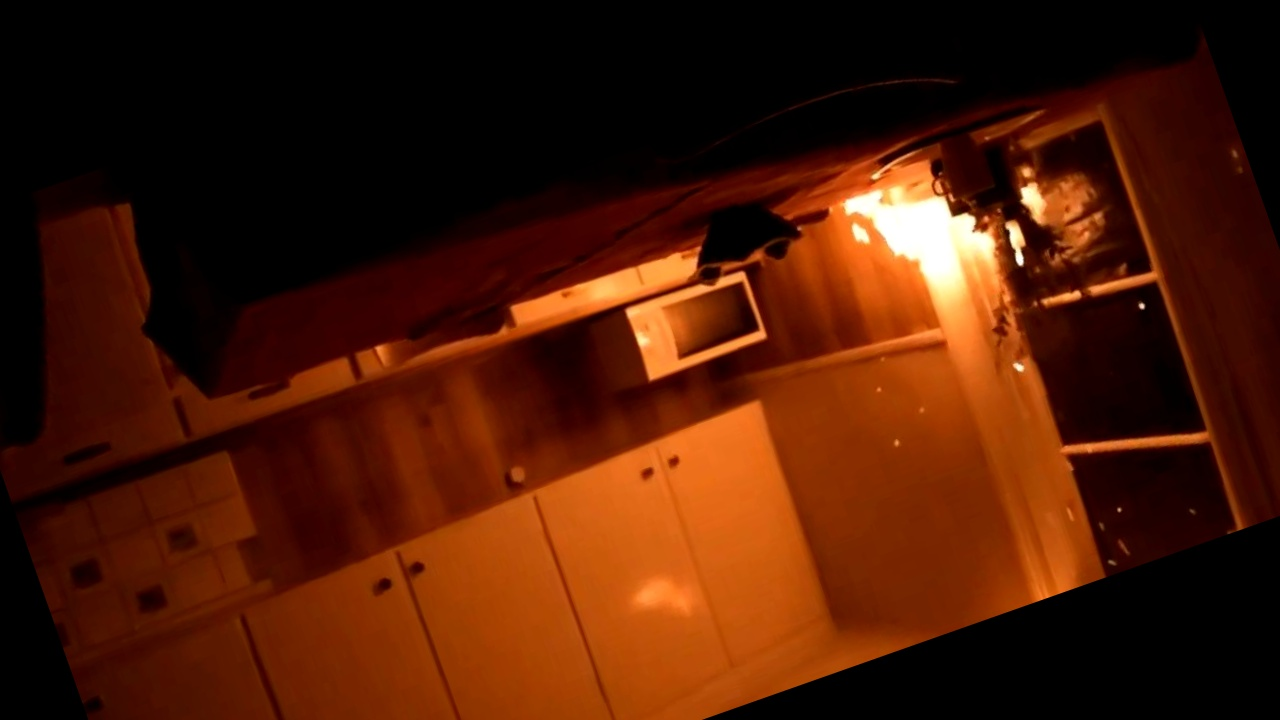fire: (805, 90, 1101, 364)
